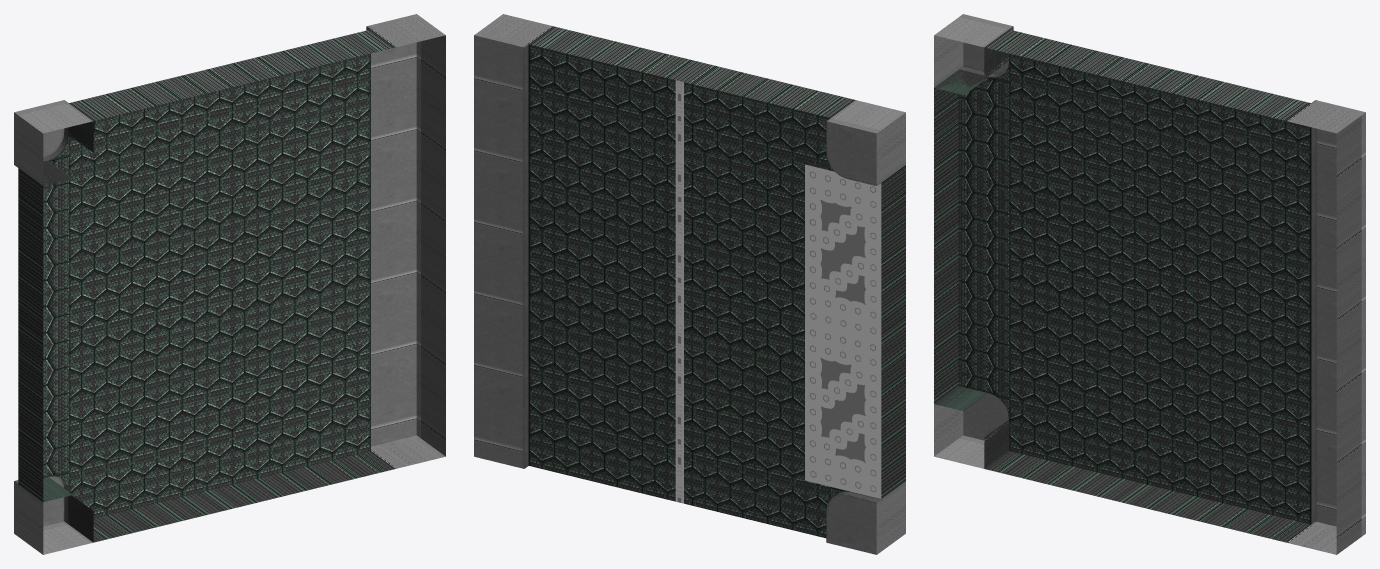
The model's file is TC_road_T-crossroad.fbx.
The picture shows the model from 3 angles, left to right: view 1: azimuth 30°, elevation 25°; view 2: azimuth 150°, elevation 25°; view 3: azimuth 330°, elevation 25°; orthographic projection.
Visible parts, largest first — view 1: TC_road_T-crossroad; view 2: TC_road_T-crossroad, crosswalk_003, light_004; view 3: TC_road_T-crossroad.
Boxes of the visible parts, x1,y1,x2,y2 form: TC_road_T-crossroad: [14, 14, 445, 554]; TC_road_T-crossroad: [474, 14, 905, 554]; crosswalk_003: [805, 164, 881, 498]; light_004: [675, 80, 683, 503]; TC_road_T-crossroad: [934, 14, 1365, 554].
Bounding box in the file's own units: 8 × 8 × 1.
